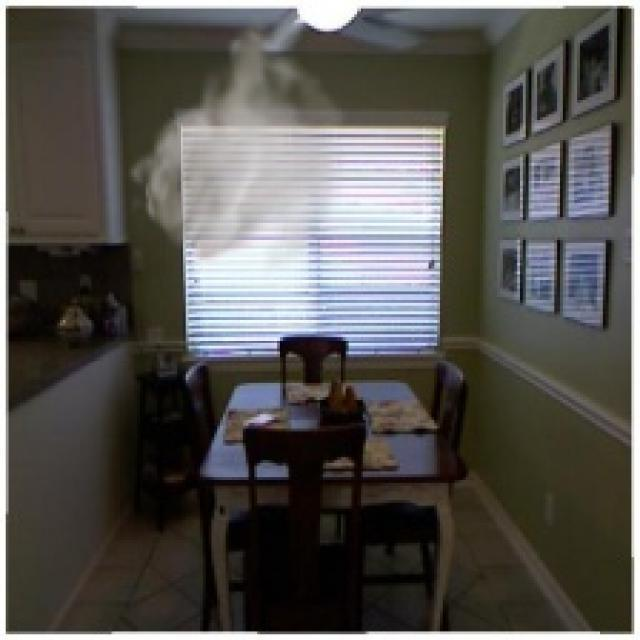Smoke: (126, 8, 352, 286)
